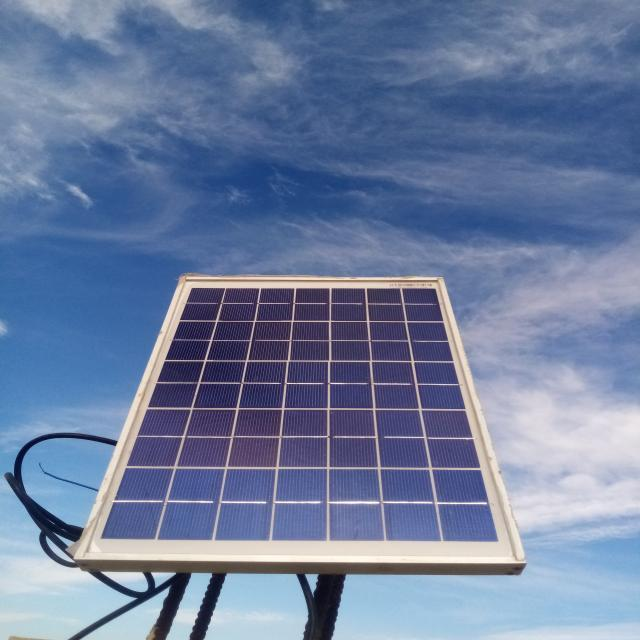Normal Solar Panel: (78, 276, 521, 560)
